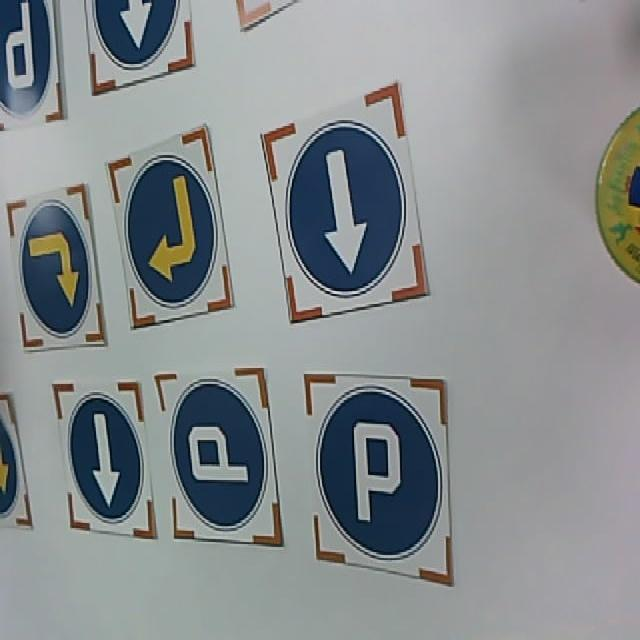parking: (316, 389, 444, 559), (172, 378, 268, 528), (0, 0, 53, 118)
straight: (288, 122, 406, 292), (72, 394, 145, 522), (93, 0, 182, 68)
turn: (125, 157, 216, 308), (24, 202, 89, 337)
